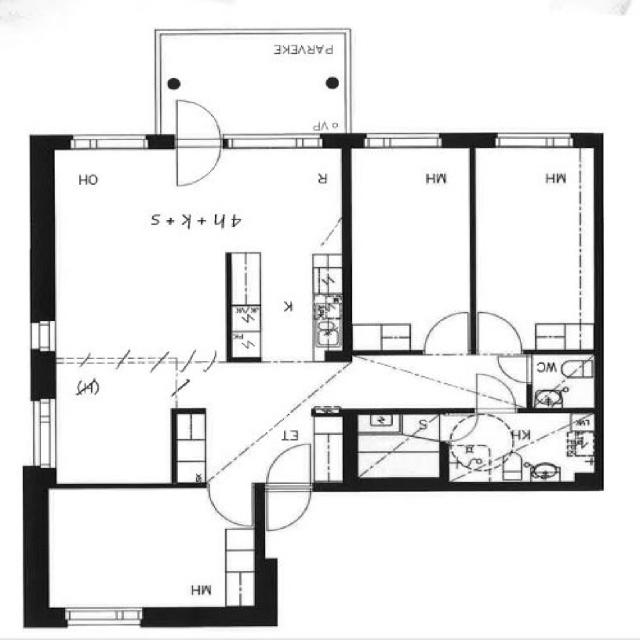door: (170, 95, 224, 190), (419, 306, 471, 357), (264, 440, 314, 493), (472, 307, 524, 357), (263, 487, 314, 531), (469, 371, 517, 414), (494, 354, 536, 387)
window: (55, 600, 152, 635), (26, 393, 61, 481), (223, 127, 330, 154), (62, 127, 152, 154), (488, 126, 579, 152), (356, 128, 449, 151), (26, 316, 57, 356), (261, 356, 316, 367)
zone: (41, 486, 262, 614), (346, 138, 474, 352), (470, 141, 598, 352), (226, 152, 346, 360), (53, 349, 178, 487), (441, 411, 597, 485), (353, 413, 442, 484), (528, 352, 598, 411)
